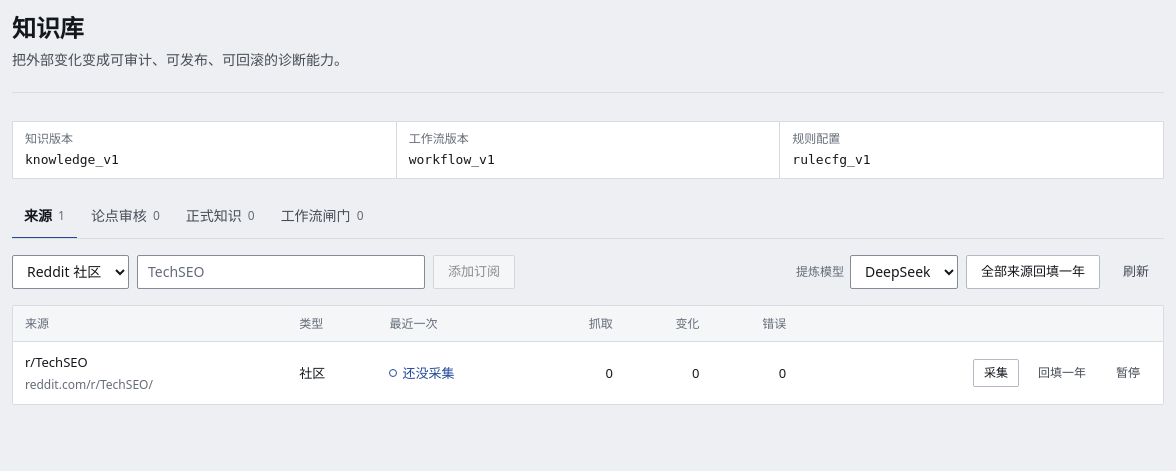
Test: KnowledgeBrainClient（知识库） › 接口失败时用提示条说明，附错误码
Click the tab "论点审核 0" at (125, 217), box [79, 195, 172, 239]
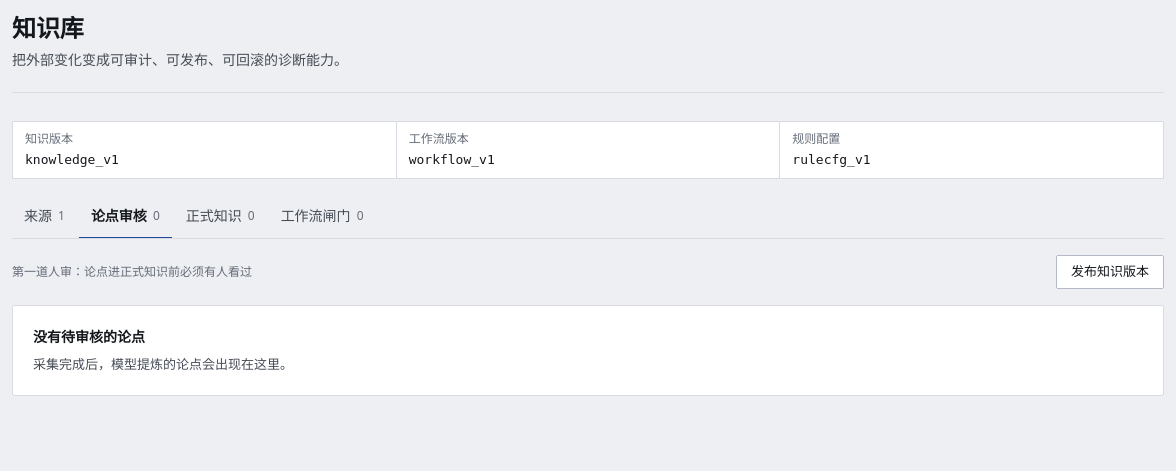
Click the button "发布知识版本" at (1110, 272), box [1056, 255, 1164, 289]
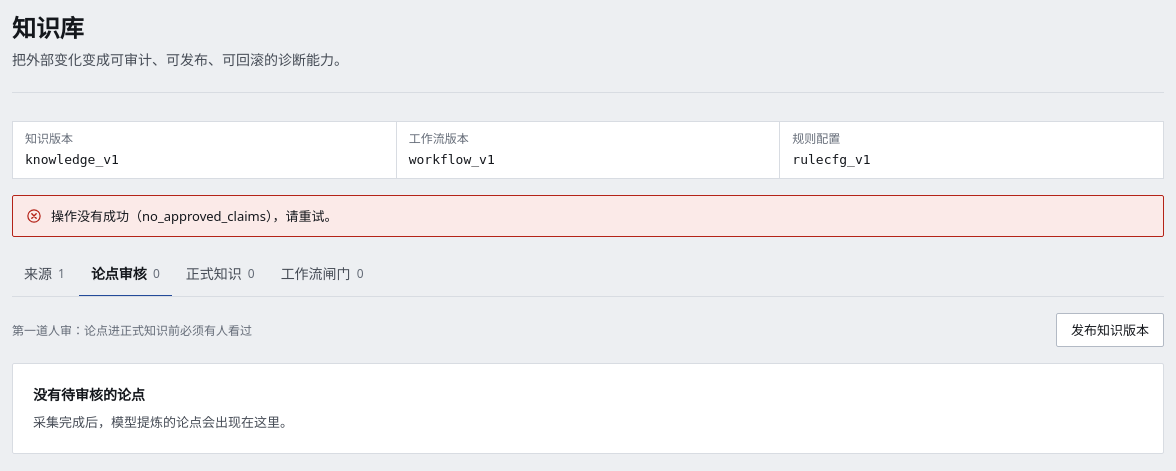
Expected: the message reads "操作没有成功（no_approved_claims），请重试。", [51, 207, 338, 225]
